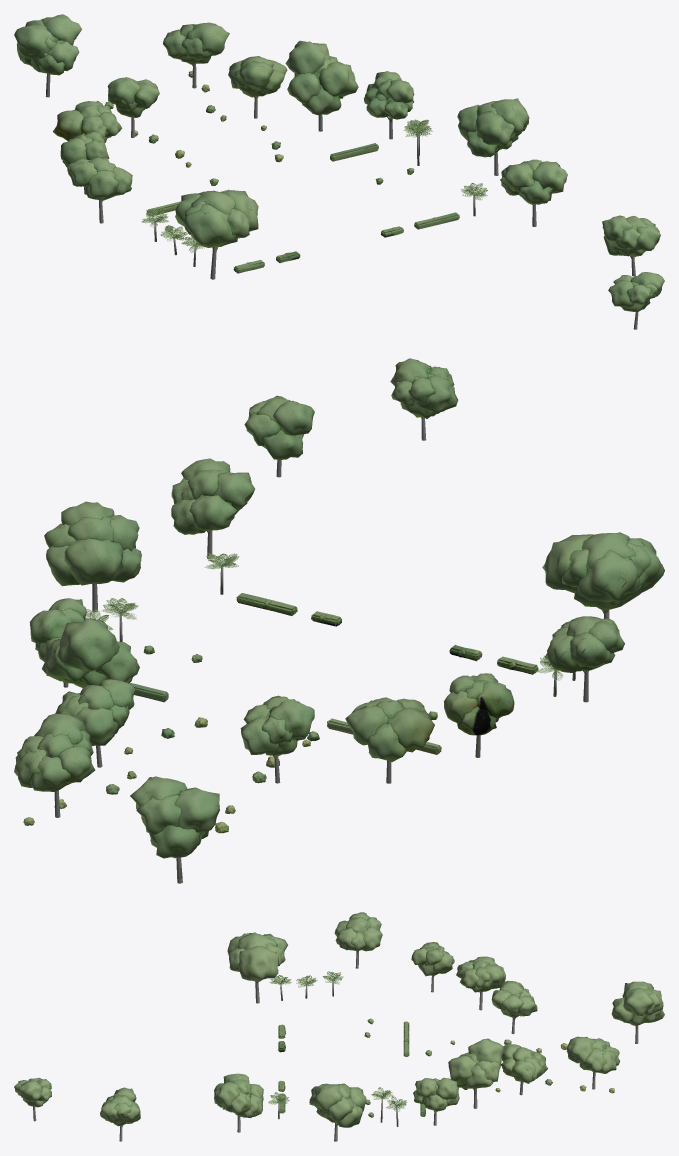
The model's file is world_trees.glb.
3 renders of one model, top to bottom at view 1: azimuth 30°, elevation 25°; view 2: azimuth 150°, elevation 25°; view 3: azimuth 270°, elevation 25°, orthographic. The views are drawn at different scales.
Parts seen in each view (by area): view 1: W_trees; view 2: W_trees; view 3: W_trees.
Part boxes in pixels (x1,y1,x2,y2): W_trees: (14, 14, 664, 329); W_trees: (14, 358, 664, 883); W_trees: (14, 912, 664, 1141).
Size of the model in its own units: 73.87 by 16.44 by 121.
1 material, 1 textured.
